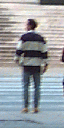person: (17, 20, 50, 108)
